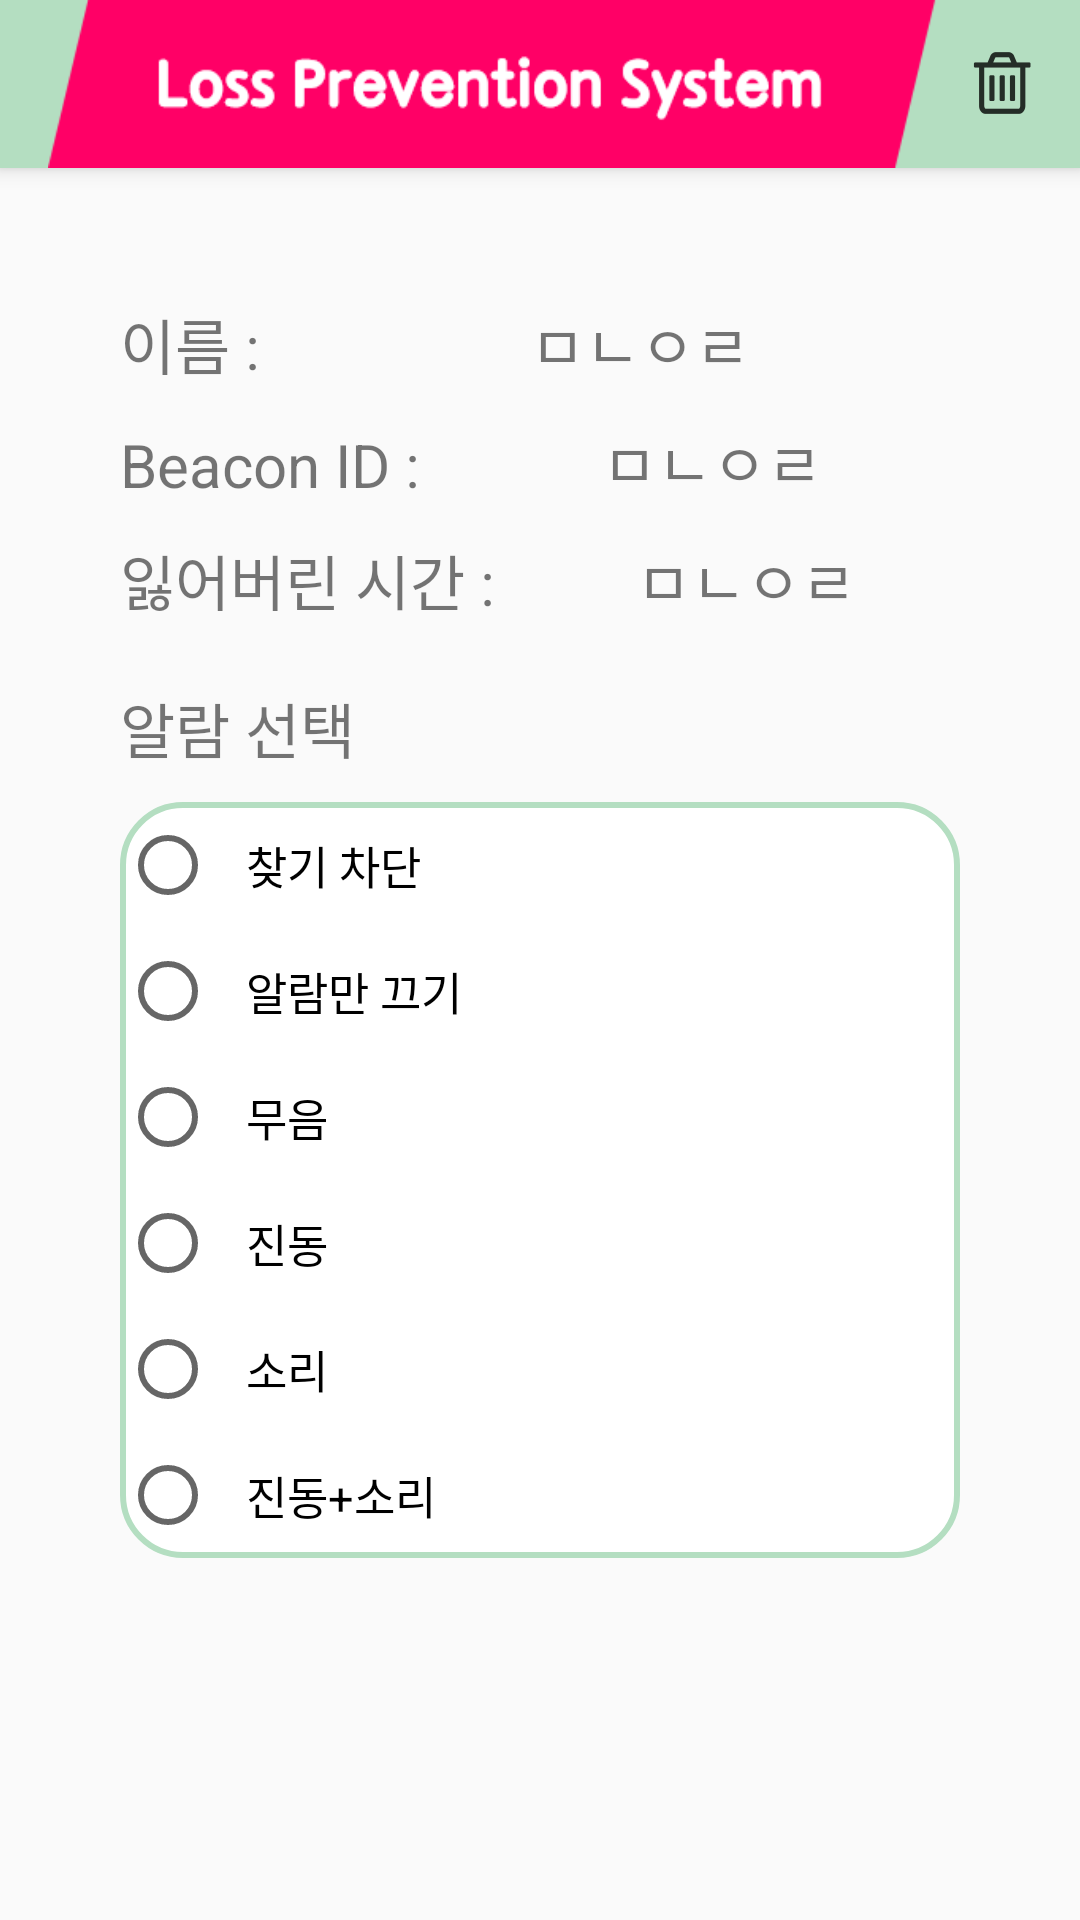

Screen size 1080px x 1920px. Icon name, then its center in pixels as point (x, y):
trash: point (1002, 83)
